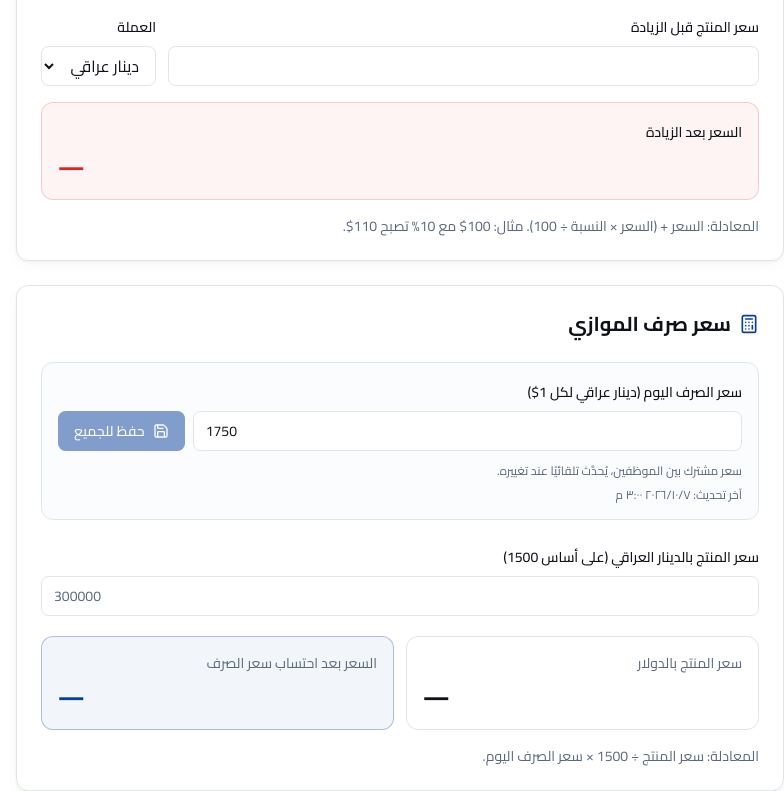
Scenario: calculates both results immediately and saves the edited rate for everyone
Later steps or results of the test are not shown.
(page scrolled)
Type "٣٠٠٠٠٠" into the field labelled "سعر المنتج بالدينار العراقي (على أساس 1500)" at (400, 596), box [41,576,759,616]
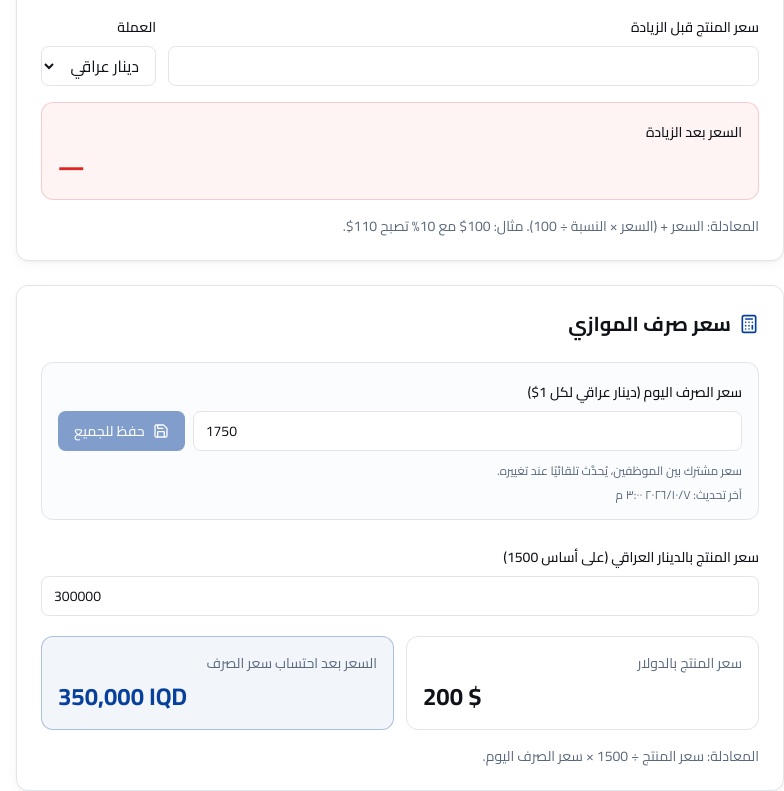
Now the text named "السعر بالدولار" reads "200 $", box [423,674,482,719]
Now the text named "السعر النهائي بالدينار" reads "350,000 IQD", box [58,674,187,719]
Type "1800" into the field labelled "سعر الصرف اليوم (دينار عراقي لكل 1$)" at (467, 431), box [193,411,742,451]
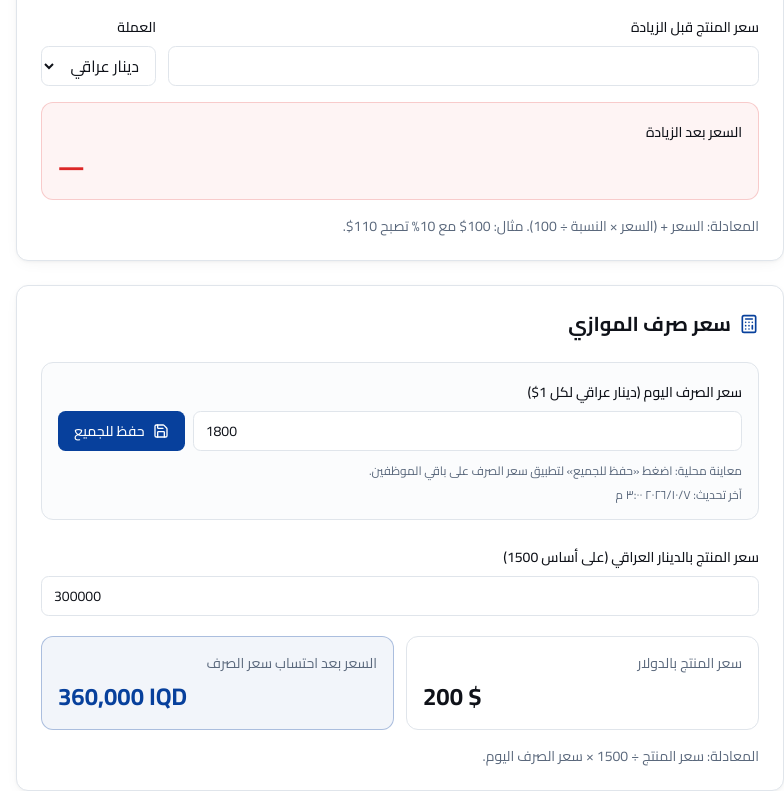
Now the text named "السعر النهائي بالدينار" reads "360,000 IQD", box [58,674,187,719]
